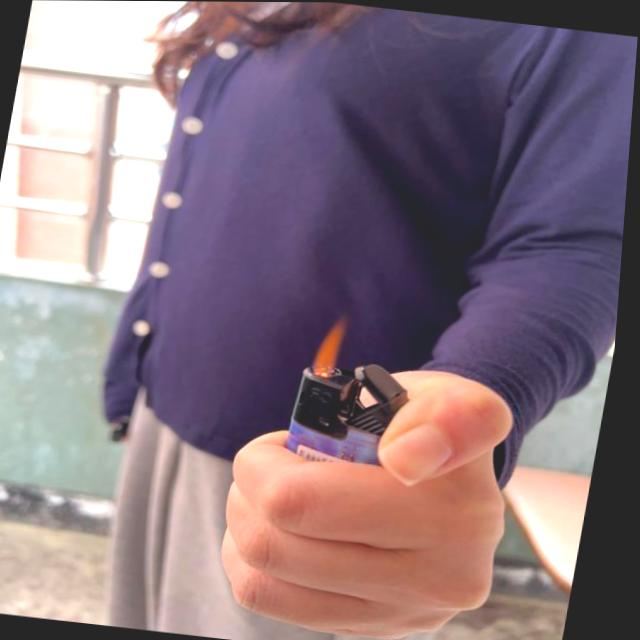helmet: (313, 309, 360, 382)
